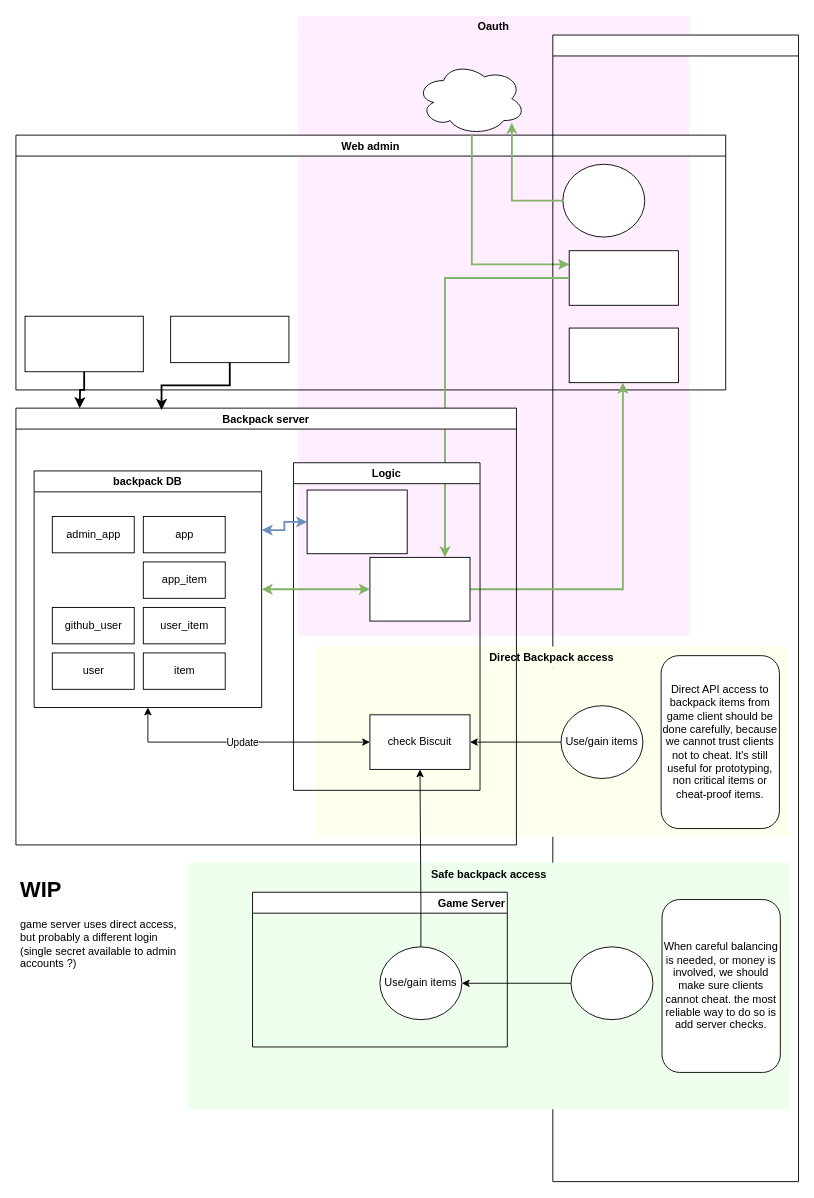
Image size: 814x1198. Some labels were removed from this diagram. Each missing label, with the centre of its shape:
"Create/remove/modify app" goes at point 229,339.
"Create/remove/modify item" goes at point 83,343.
"Create/retrieve admin account and return a Biscuit" goes at point 356,521.
"Create/retrieve user account and return a Biscuit, scoped to game app" goes at point 419,588.
"Game client (app)" goes at point 675,608.
"Get github code" goes at point 623,277.
"Github" goes at point 470,98.
"Normal play" goes at point 611,983.
"store biscuit" goes at point 623,355.
"wants to connect" goes at point 603,200.
